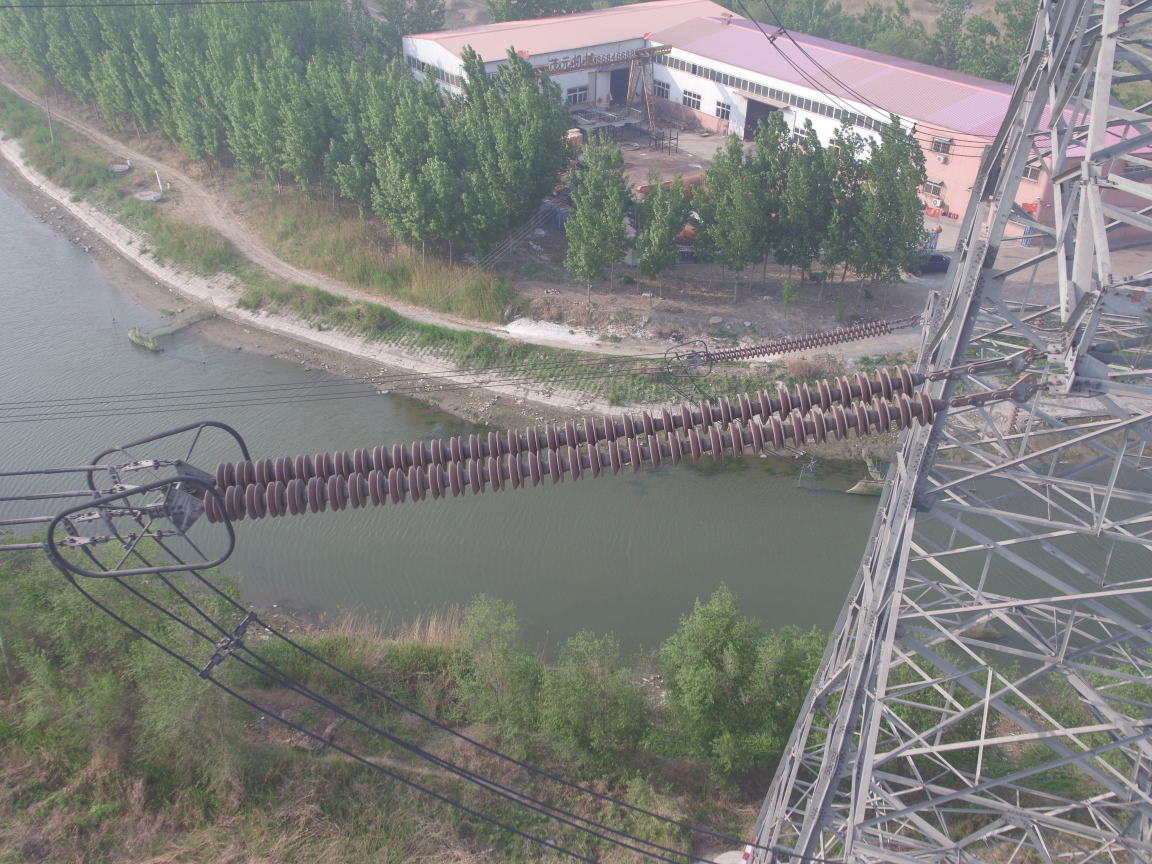insulator: (193, 360, 975, 531), (698, 315, 907, 365)
